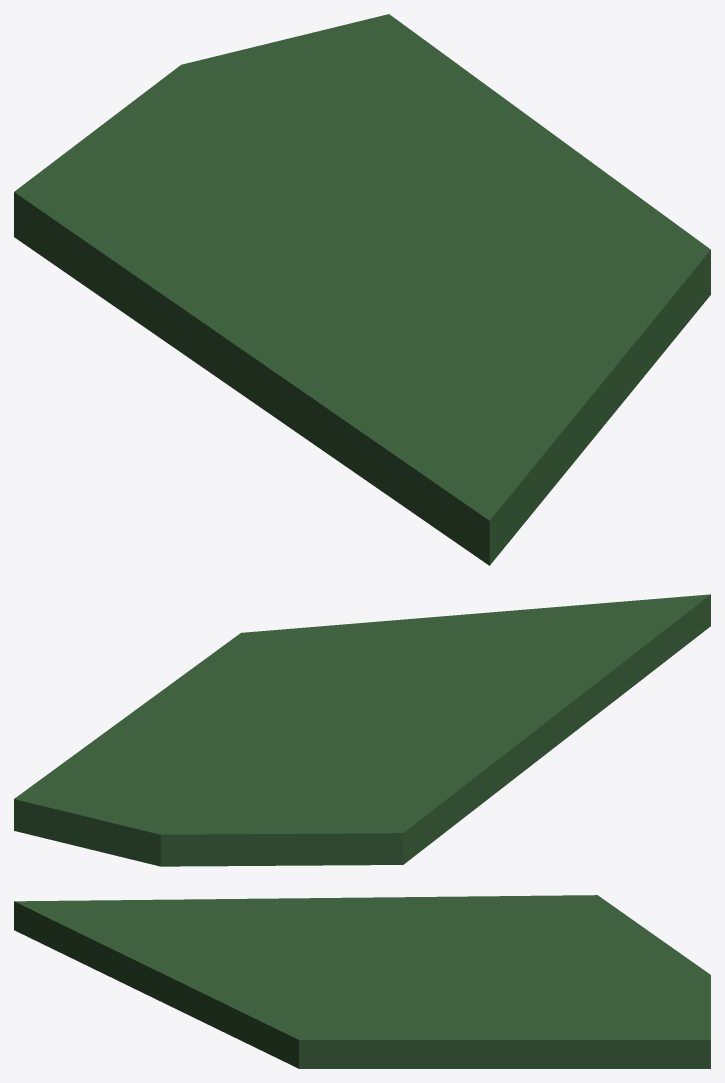
The model's file is x_proval_00_167_1_rmstrd.fbx.
3 views of the same model, one above another, from view 1: azimuth 30°, elevation 25°; view 2: azimuth 150°, elevation 25°; view 3: azimuth 270°, elevation 25° (orthographic). The views are drawn at different scales.
Parts seen in each view (by area): view 1: x_proval_00_167_1_rmstrd1; view 2: x_proval_00_167_1_rmstrd1; view 3: x_proval_00_167_1_rmstrd1.
Part boxes in pixels (<box>): x_proval_00_167_1_rmstrd1: <box>14,14,710,565</box>; x_proval_00_167_1_rmstrd1: <box>14,594,710,866</box>; x_proval_00_167_1_rmstrd1: <box>14,895,710,1068</box>.
Bounding box in the file's own units: 2.15 × 0.2 × 4.37.
